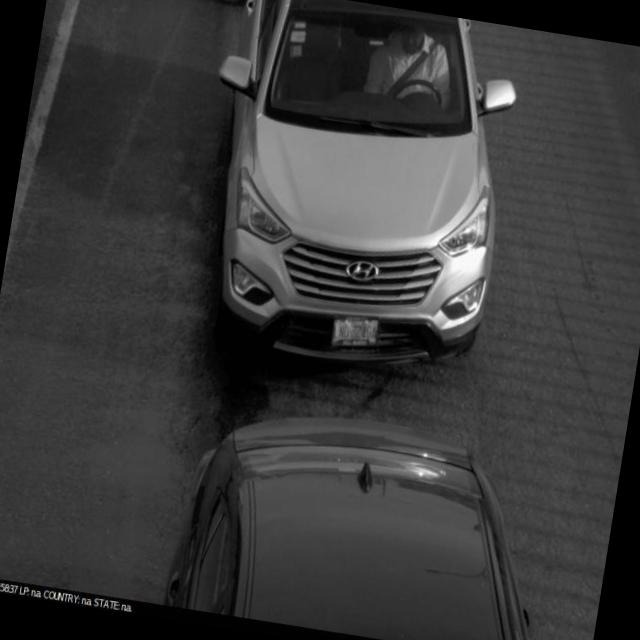person_with_seatbelt: (357, 6, 468, 133)
